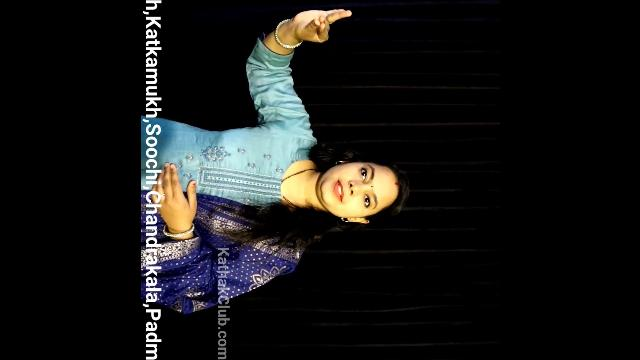katak: (250, 0, 361, 62)
